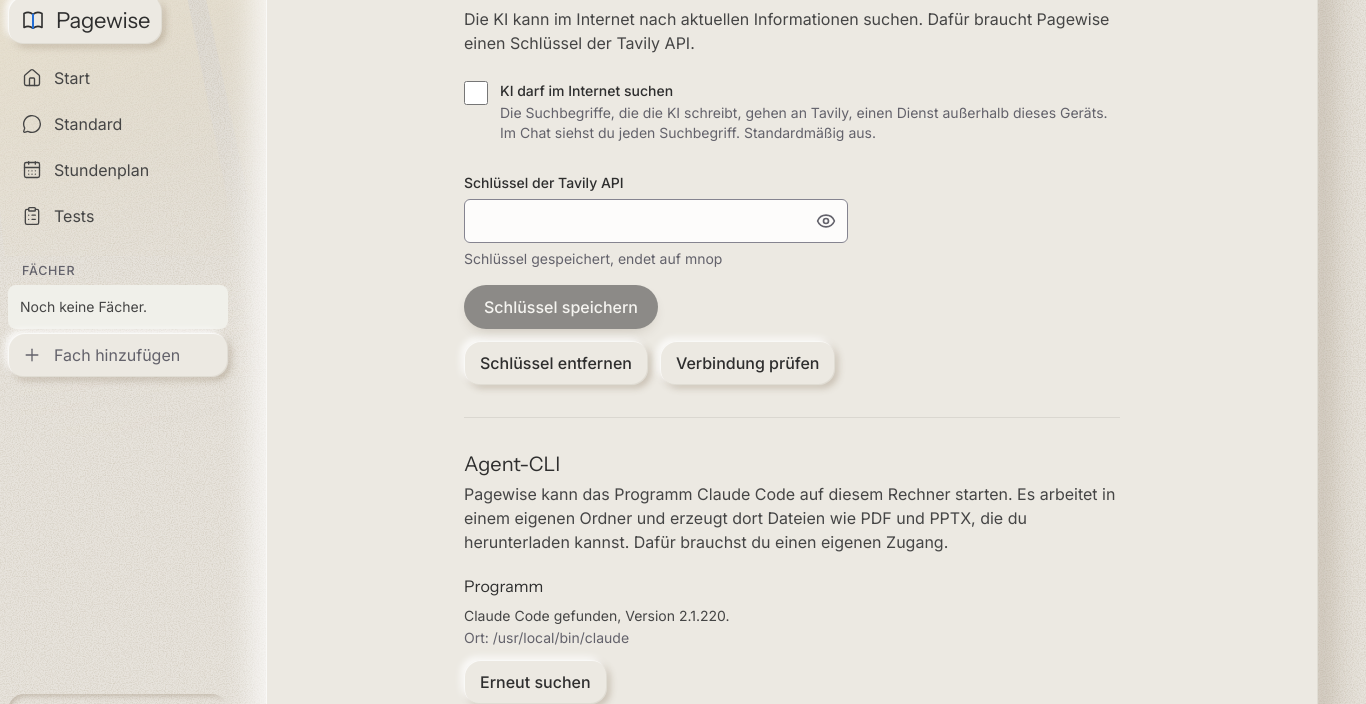
Einstellungen: Websuche für die KI › prüft die Verbindung und sagt, was der Dienst geantwortet hat
(page scrolled)
Click the button "Verbindung prüfen". click: (748, 363)
box: [660, 341, 835, 385]
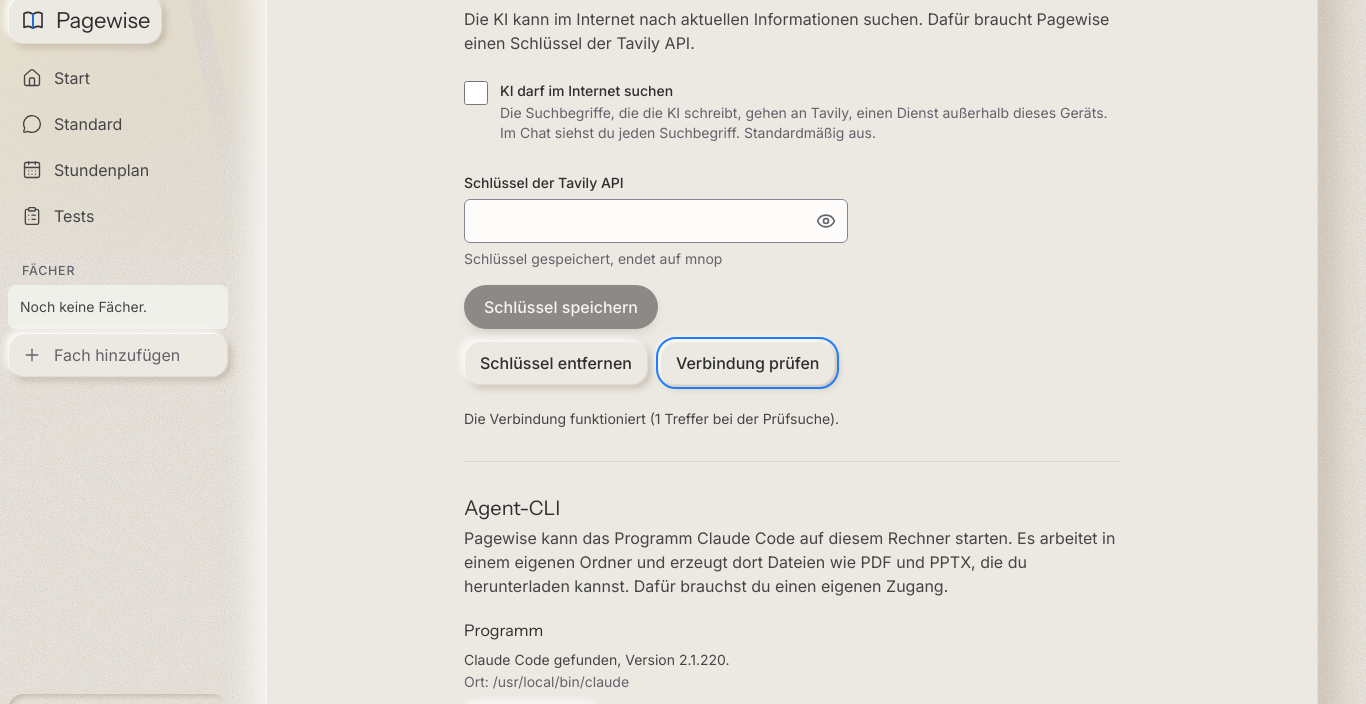
Result: the text "Die Verbindung funktioniert (1 Treffer bei der Prüfsuche)." is shown at [464, 410, 839, 427]
Click the button "Verbindung prüfen". click: (748, 363)
box: [660, 341, 835, 385]
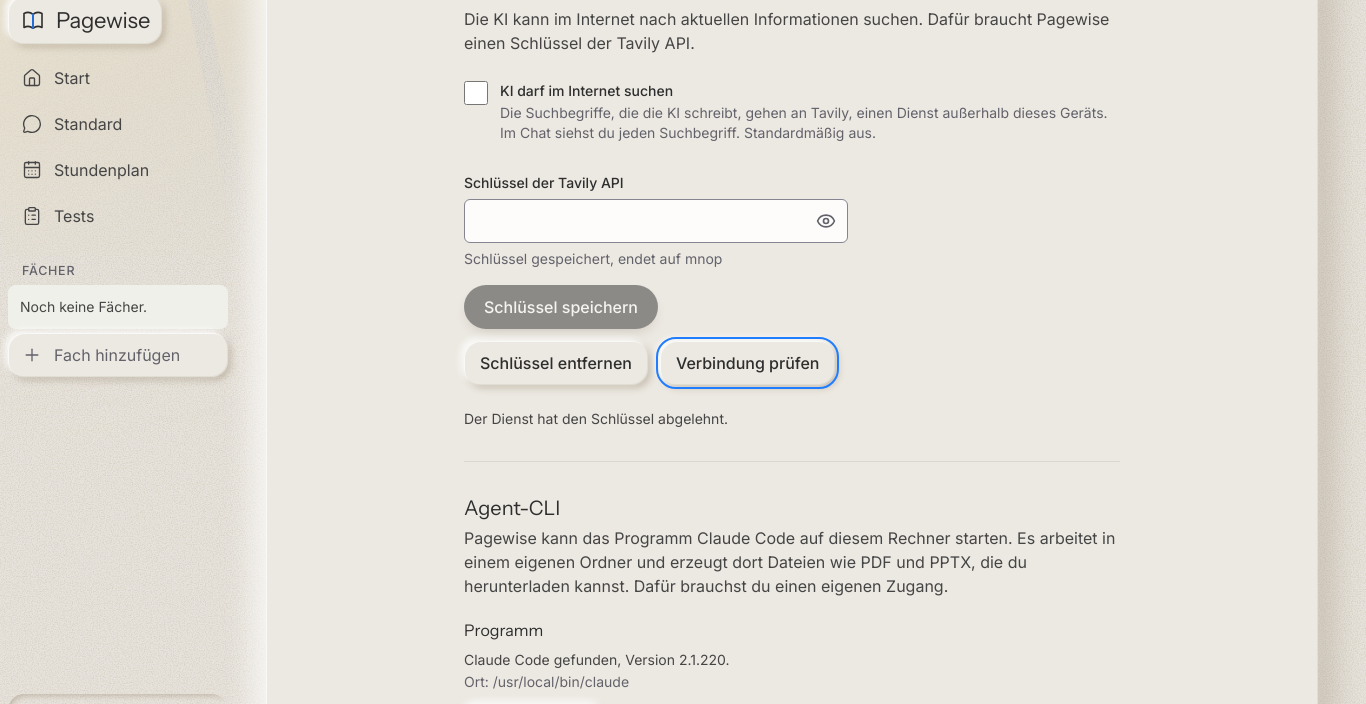
Result: the text "Der Dienst hat den Schlüssel abgelehnt." is shown at [464, 410, 728, 427]
